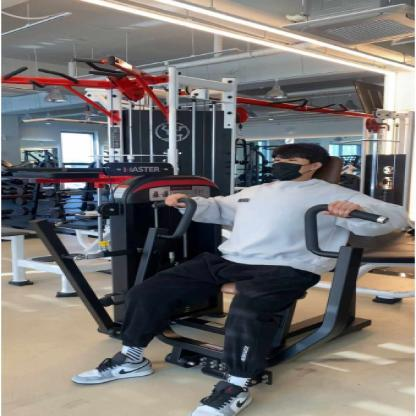Chest Press machine: (6, 48, 416, 416)
